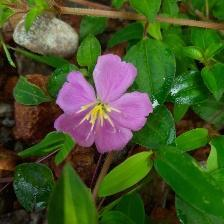malabar melastome: (54, 54, 155, 157)
